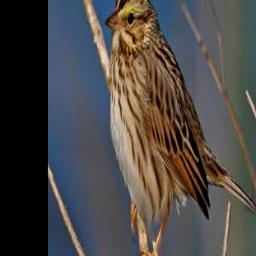Sparrow: (105, 0, 256, 256)
